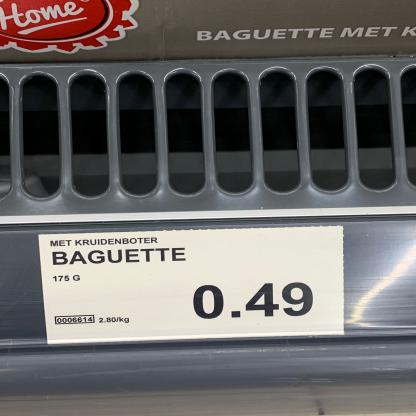prtg: (39, 227, 346, 346)
